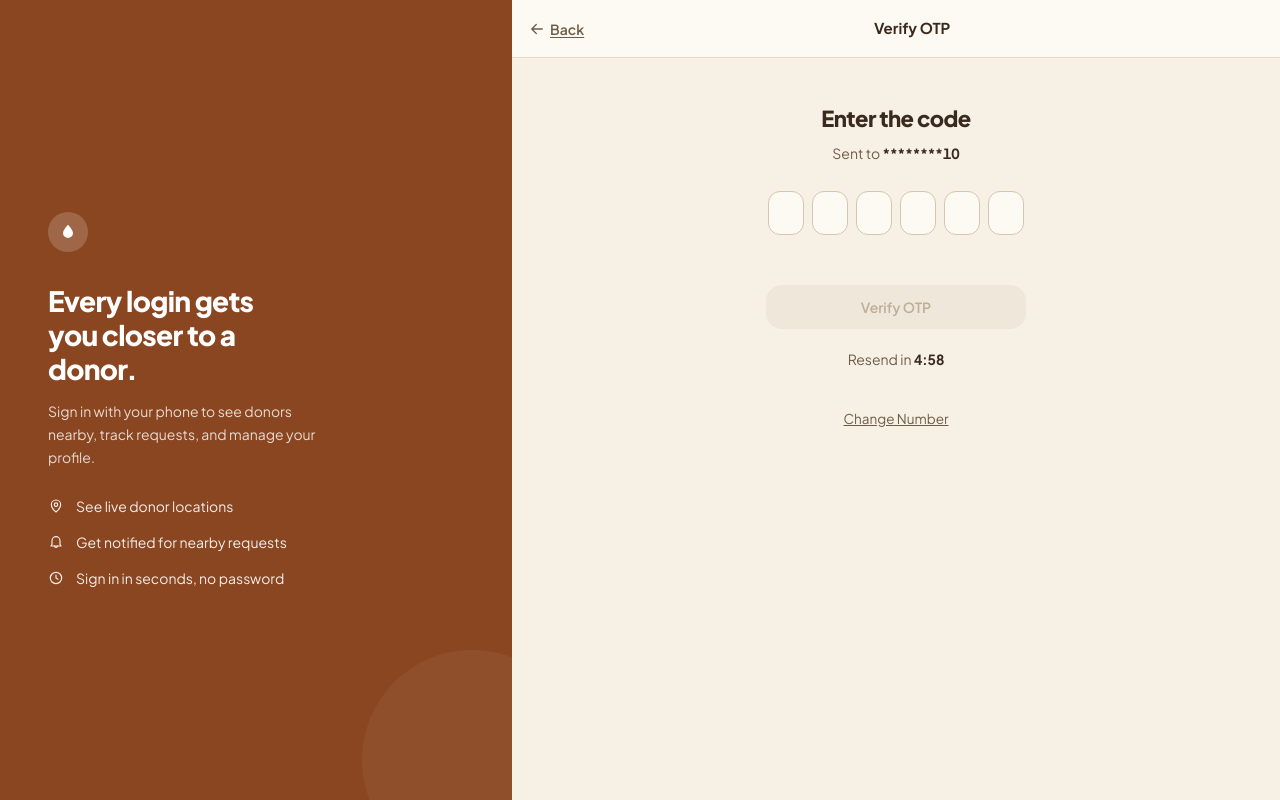
Test case: OtpVerificationPage › TC-CHH-F01-41: on 422, clears all boxes, shows the AC2 message, and refocuses box 1
In the field named "Digit 1": coordinates (786, 213) [768, 191, 804, 235], type "4"
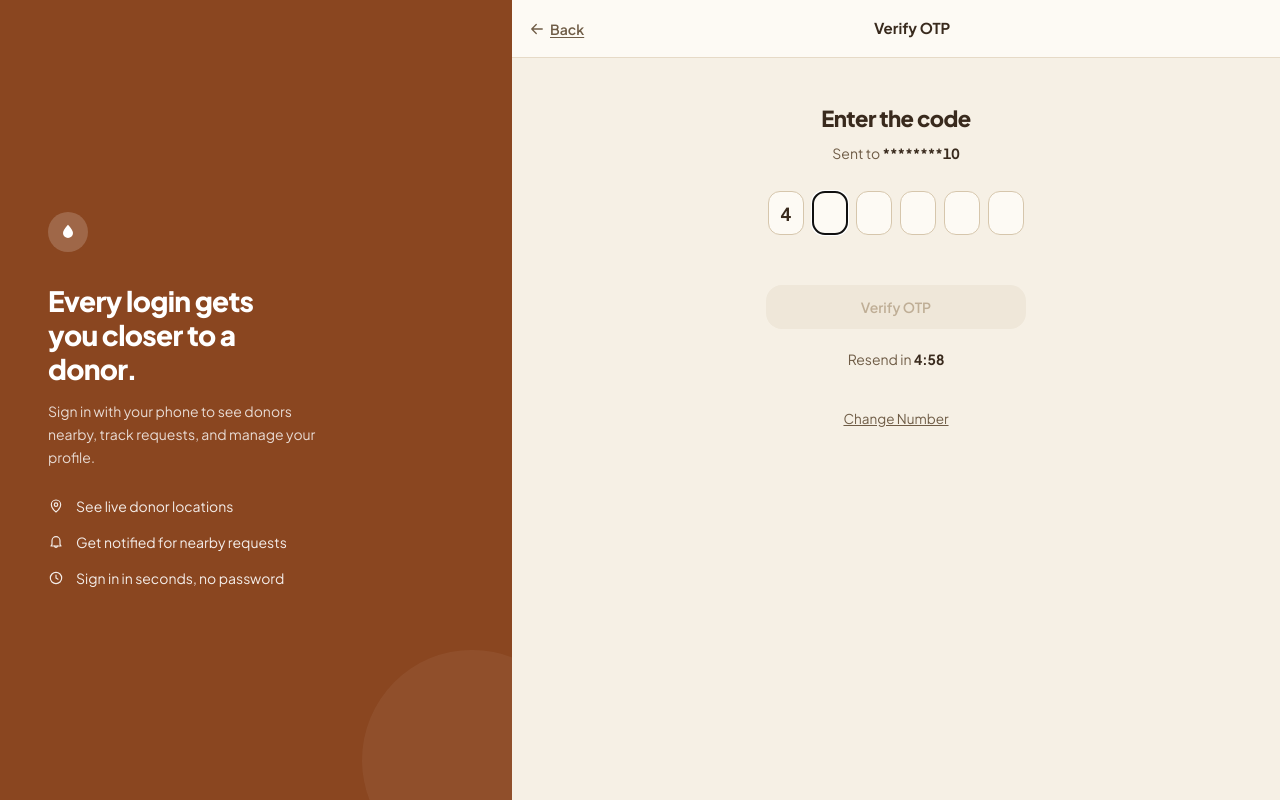
In the field named "Digit 2": coordinates (830, 213) [812, 191, 848, 235], type "2"
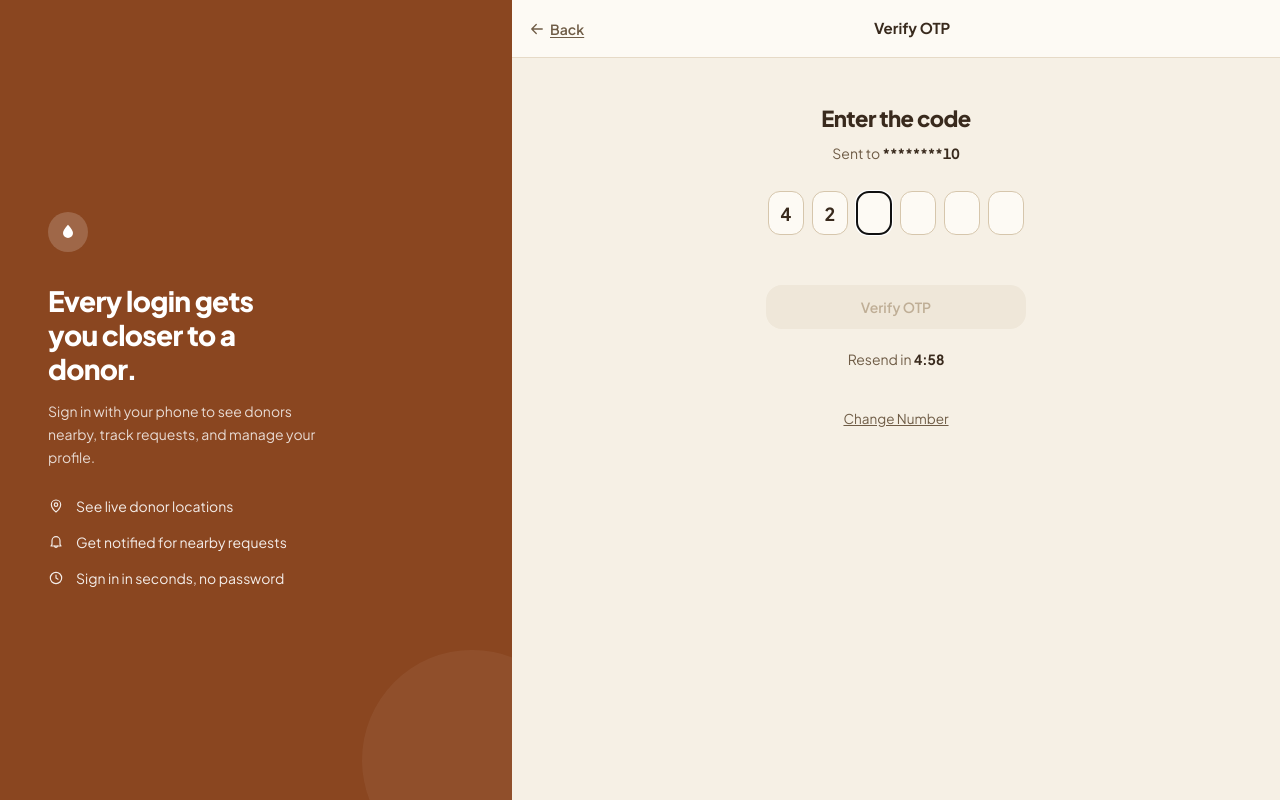
In the field named "Digit 3": coordinates (874, 213) [856, 191, 892, 235], type "7"
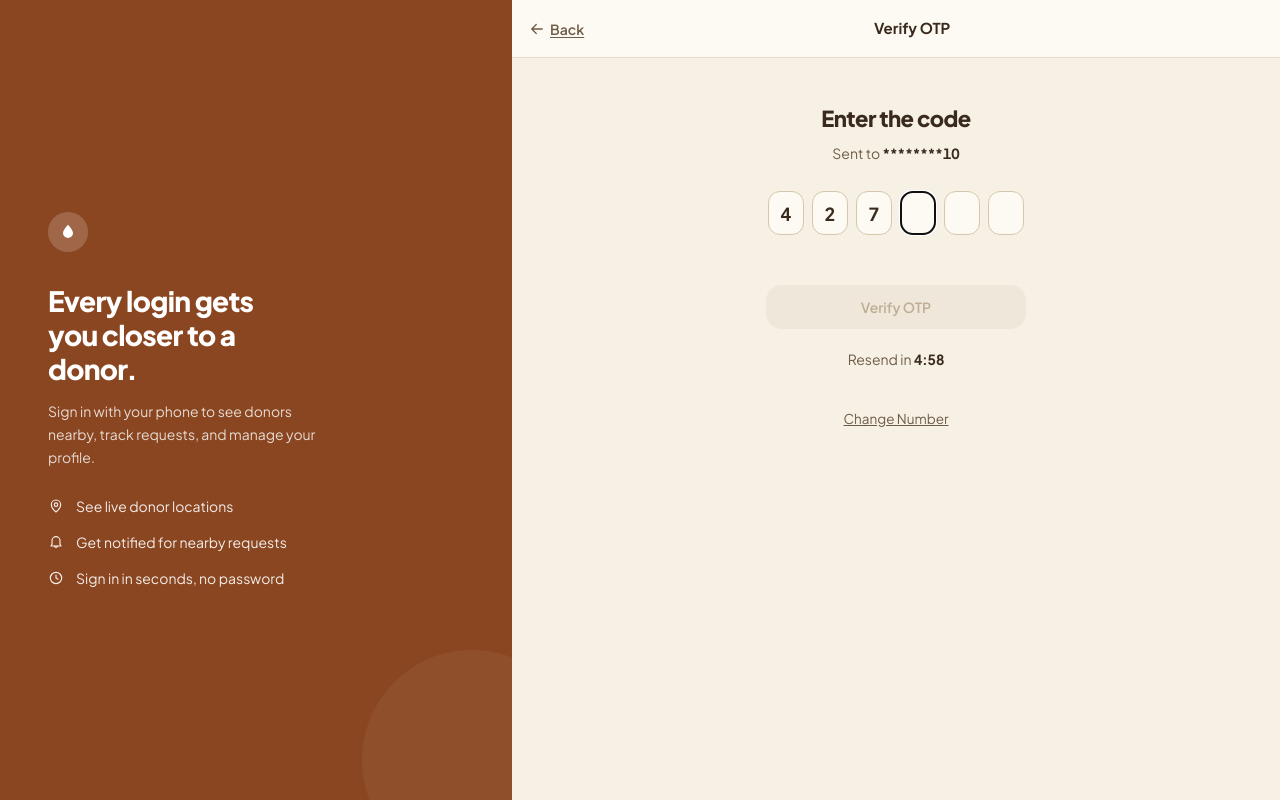
In the field named "Digit 4": coordinates (918, 213) [900, 191, 936, 235], type "1"
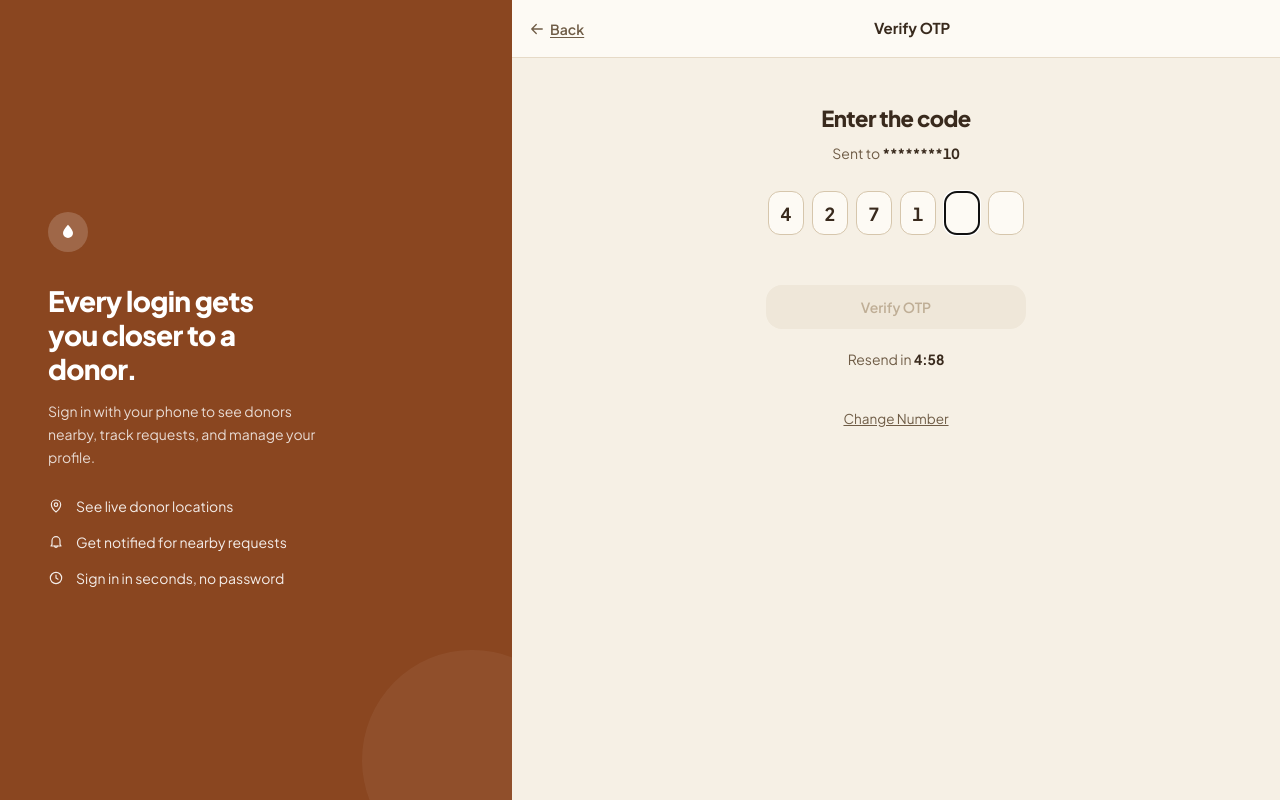
In the field named "Digit 5": coordinates (962, 213) [944, 191, 980, 235], type "5"
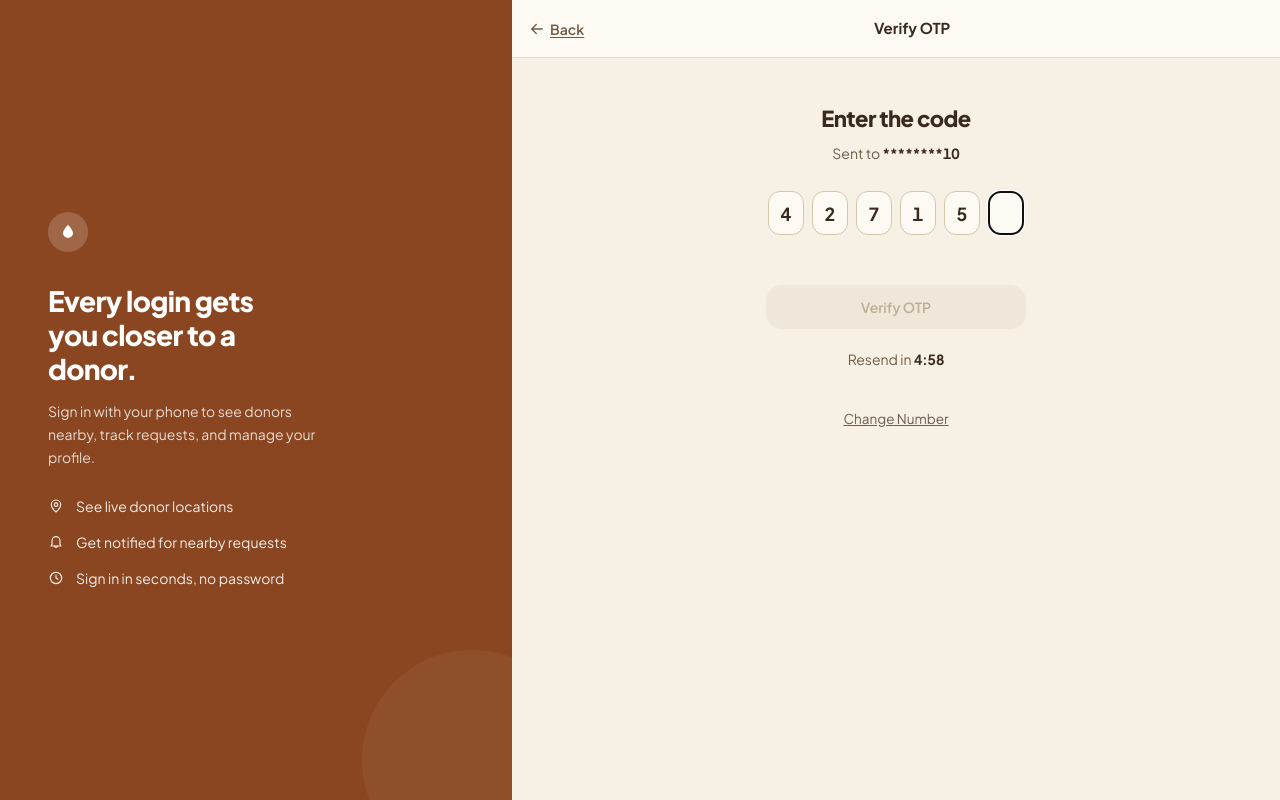
In the field named "Digit 6": coordinates (1006, 213) [988, 191, 1024, 235], type "9"
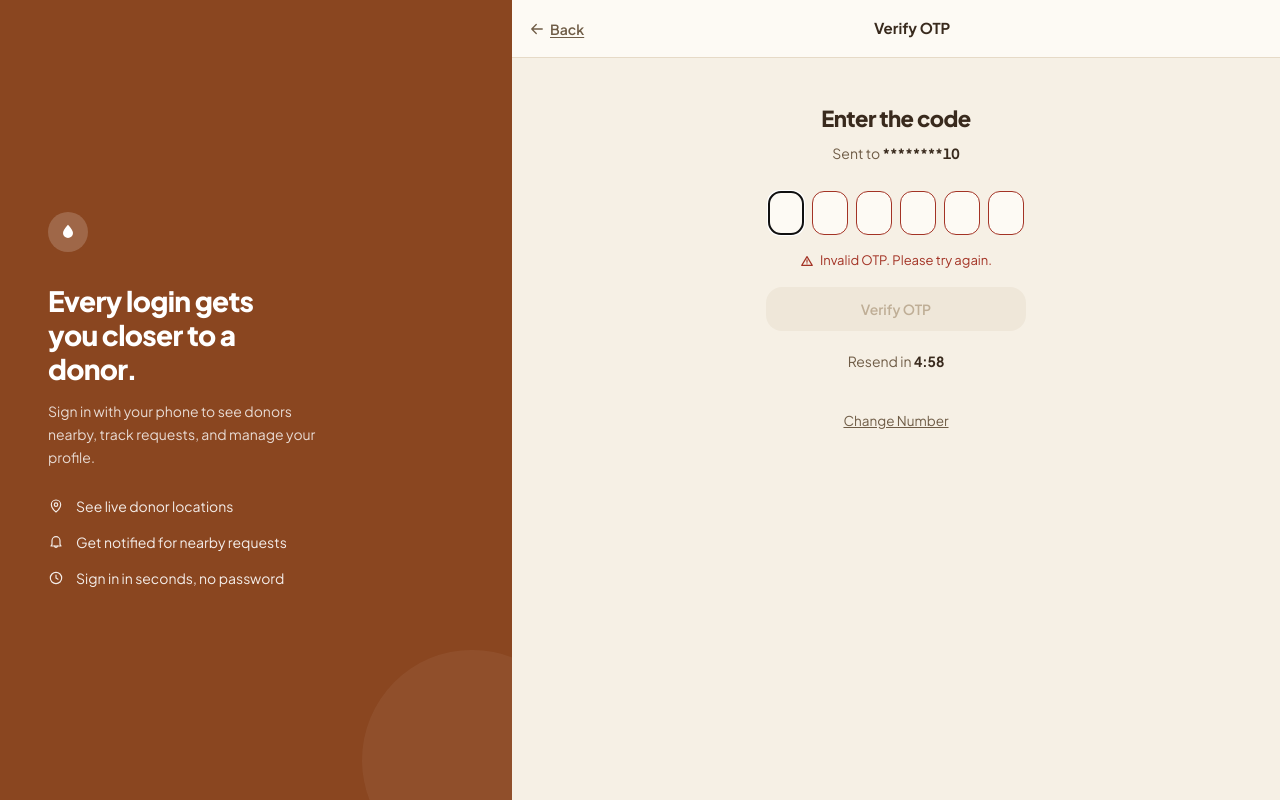
Check: the text "Invalid OTP. Please try again." is shown, box [800, 251, 992, 270]
Check: the field named "Digit 1" is empty, box [768, 191, 804, 235]
Check: the field named "Digit 2" is empty, box [812, 191, 848, 235]
